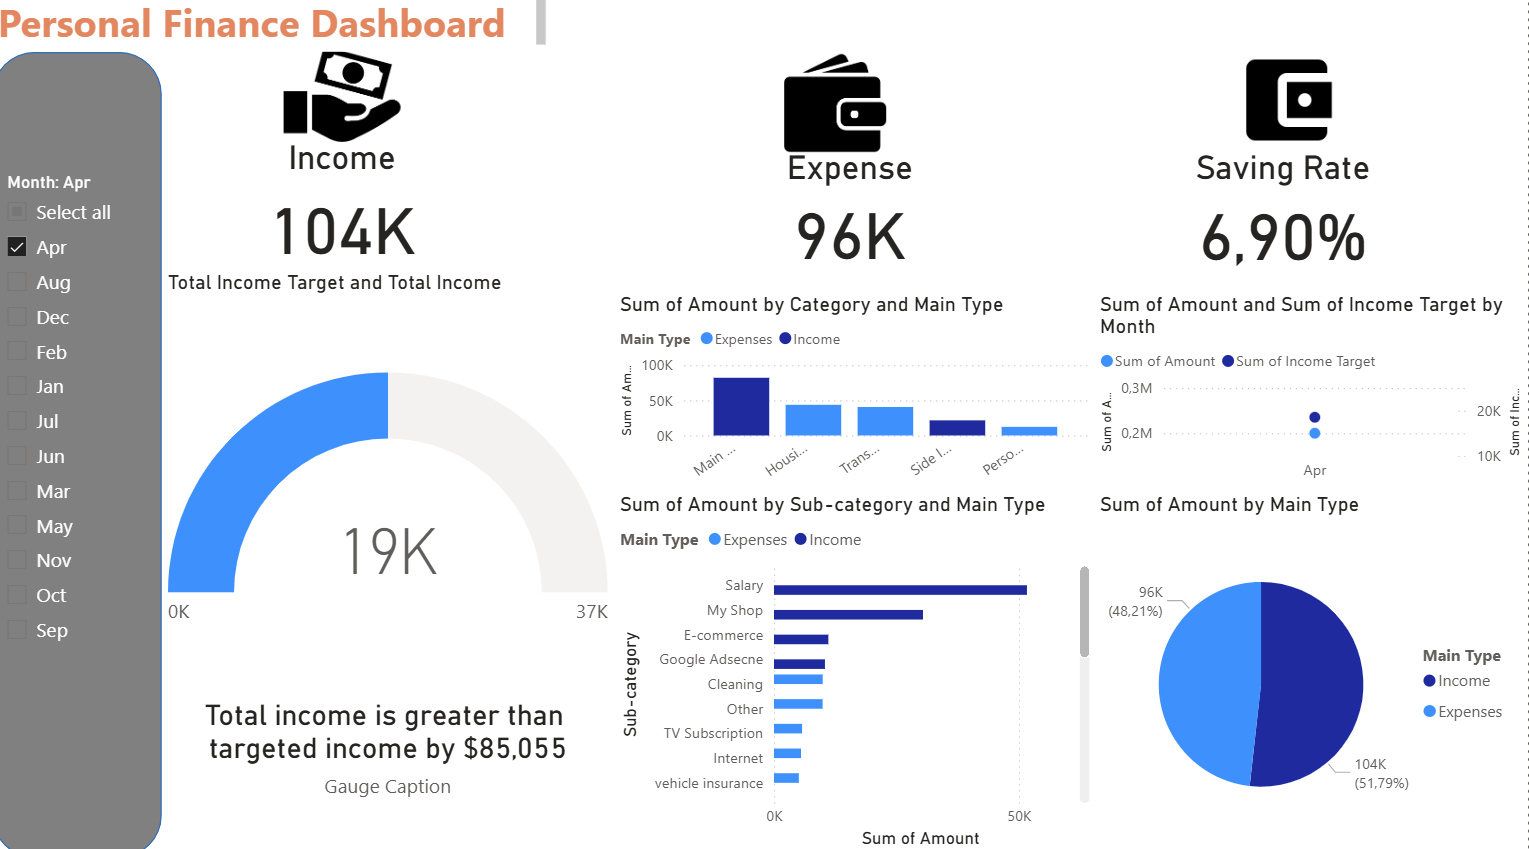

The page's visual inventory and layout, read from the dashboard file:
{"tool":"powerbi","page":{"name":"Page 1","canvas":[1280,720],"ordinal":0},"visuals":[{"type":"card","title":"Income","fields":{"Values":["Income Goal.Total Income"]},"box":[171.7,123.3,240,110],"z":0},{"type":"image","box":[220,41.7,143.3,90],"z":1000},{"type":"card","title":"Saving Rate","fields":{"Values":["Income Goal.Saving Rate"]},"box":[951.7,131.7,248.3,103.3],"z":2000},{"type":"card","title":"Expense","fields":{"Values":["Income Goal.Total Expenses"]},"box":[586.7,131.7,256.7,101.7],"z":3000},{"type":"image","box":[601.7,46.7,201.7,95],"z":4000},{"type":"image","box":[975,41.7,208.3,100],"z":5000},{"type":"textbox","box":[0,0,466.7,51.7],"z":6000},{"type":"shape","box":[0,51.7,141.7,671.7],"z":7000},{"type":"gauge","fields":{"Y":["Income Goal.Total Income Target"],"TargetValue":["Income Goal.Total Income"]},"box":[141.7,233.3,376.7,366.7],"z":8000},{"type":"card","fields":{"Values":["Income Goal.Gauge Caption"]},"box":[141.7,535,376.7,185],"z":9000},{"type":"columnChart","fields":{"Category":["Main Data.Category"],"Y":["Sum(Main Data.Amount)"],"Series":["Main Data.Main Type"]},"box":[518.3,251.7,400,166.7],"z":10000},{"type":"clusteredBarChart","fields":{"Category":["Main Data.Sub-category"],"Y":["Sum(Main Data.Amount)"],"Series":["Main Data.Main Type"]},"box":[518.3,418.3,401.7,301.7],"z":11000},{"type":"lineChart","fields":{"Category":["Main Data.Month"],"Y":["Sum(Main Data.Amount)"],"Y2":["Sum(Income Goal.Income Target)"]},"box":[918.3,251.7,361.7,166.7],"z":12000},{"type":"slicer","fields":{"Values":["Income Goal.Month"]},"box":[0,146.7,141.7,481.7],"z":13000},{"type":"pieChart","fields":{"Category":["Main Data.Main Type"],"Y":["Sum(Main Data.Amount)"]},"box":[918.3,418.3,361.7,301.7],"z":14000}]}

Visuals, with their boxes in screenshot pixels (x1, y1, x2, y2), scaled from the page's 1280x720 canvas onto the 1529x849 screenshot:
"Income" card: region(205, 145, 492, 275)
image: region(263, 49, 434, 155)
"Saving Rate" card: region(1137, 155, 1433, 277)
"Expense" card: region(701, 155, 1007, 275)
image: region(719, 55, 960, 167)
image: region(1165, 49, 1413, 167)
textbox: region(0, 0, 557, 61)
shape: region(0, 61, 169, 848)
gauge - Income Goal.Total Income Target x Income Goal.Total Income: region(169, 275, 619, 708)
card - Income Goal.Gauge Caption: region(169, 631, 619, 848)
columnChart - Main Data.Category x Sum(Main Data.Amount): region(619, 297, 1097, 493)
clusteredBarChart - Main Data.Sub-category x Sum(Main Data.Amount): region(619, 493, 1099, 848)
lineChart - Main Data.Month x Sum(Main Data.Amount): region(1097, 297, 1528, 493)
slicer - Income Goal.Month: region(0, 173, 169, 741)
pieChart - Main Data.Main Type x Sum(Main Data.Amount): region(1097, 493, 1528, 848)
